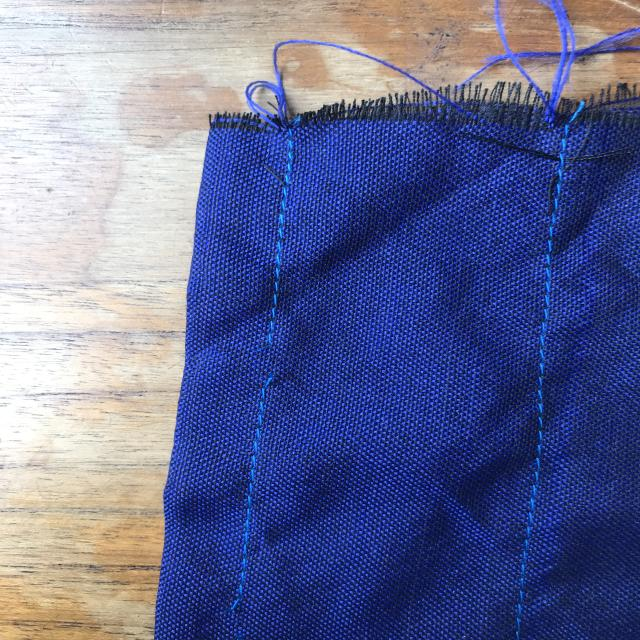broken: (254, 307, 293, 411)
